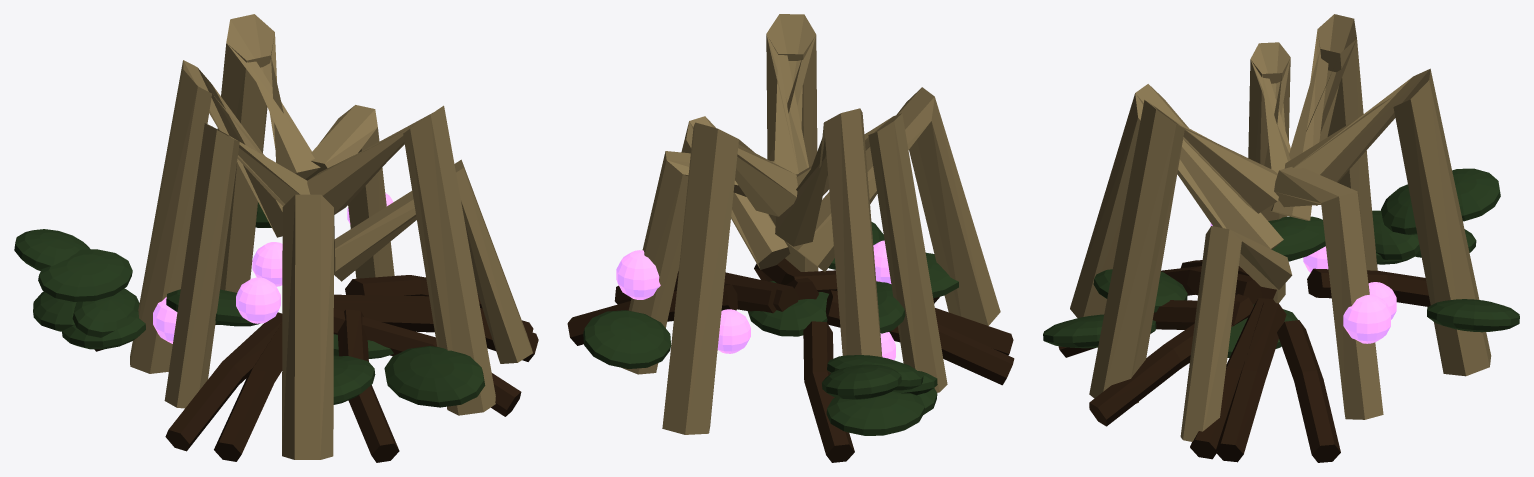
The model's file is living-rubble.glb.
3 views of the same model, side by side, from view 1: azimuth 30°, elevation 25°; view 2: azimuth 150°, elevation 25°; view 3: azimuth 270°, elevation 25° (orthographic).
Visible parts, largest first — view 1: wood, leaves, roots, fading-light; view 2: wood, leaves, roots, fading-light; view 3: wood, roots, leaves, fading-light.
Part boxes in pixels (bbox=[...]): wood: bbox=[130, 14, 532, 459]; leaves: bbox=[14, 202, 485, 407]; roots: bbox=[94, 275, 538, 462]; fading-light: bbox=[153, 193, 393, 343]; wood: bbox=[621, 14, 1000, 434]; leaves: bbox=[583, 221, 958, 435]; roots: bbox=[567, 258, 1014, 462]; fading-light: bbox=[616, 240, 895, 360]; wood: bbox=[1070, 14, 1491, 441]; roots: bbox=[1058, 260, 1430, 462]; leaves: bbox=[1043, 168, 1519, 357]; fading-light: bbox=[1210, 223, 1396, 343].
Size of the model in its own units: 0.9201 by 0.6839 by 0.9572.
